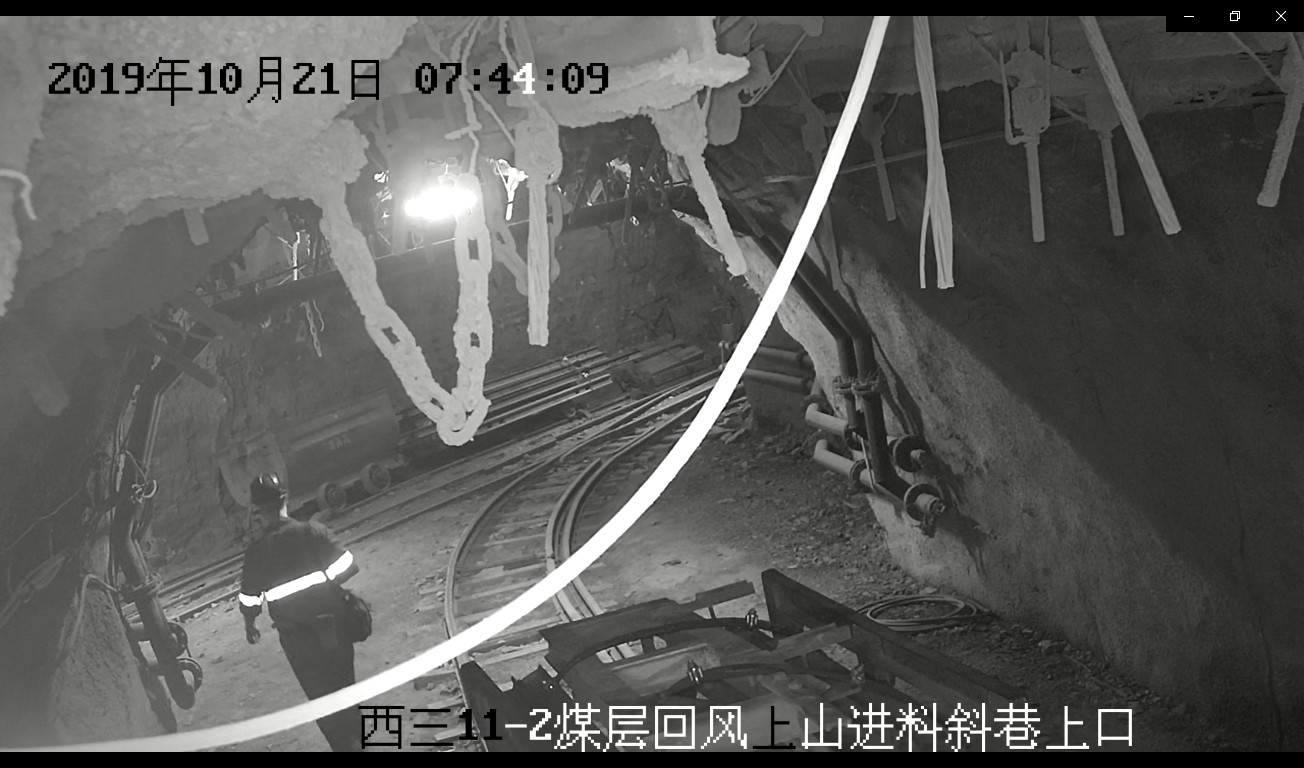helmet: (250, 471, 287, 505)
